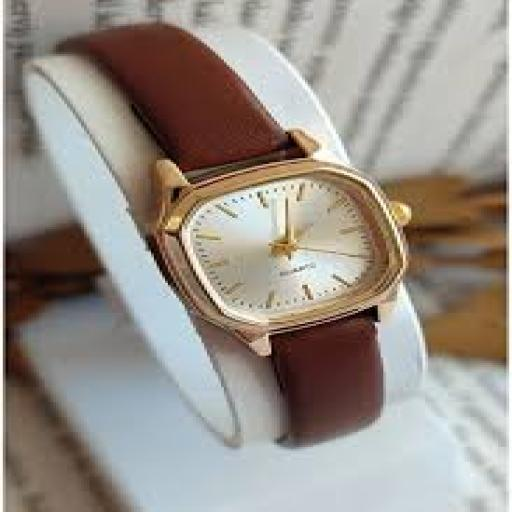KolSaati: (28, 17, 457, 456)
